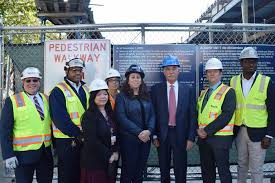hard hat: (21, 66, 42, 80), (204, 57, 224, 71), (238, 47, 260, 59), (89, 79, 109, 92), (125, 64, 146, 76), (160, 55, 181, 67), (65, 57, 86, 68), (103, 69, 122, 79)
high-vis: (9, 90, 51, 151), (230, 73, 271, 127), (51, 81, 89, 138), (197, 84, 235, 135)
